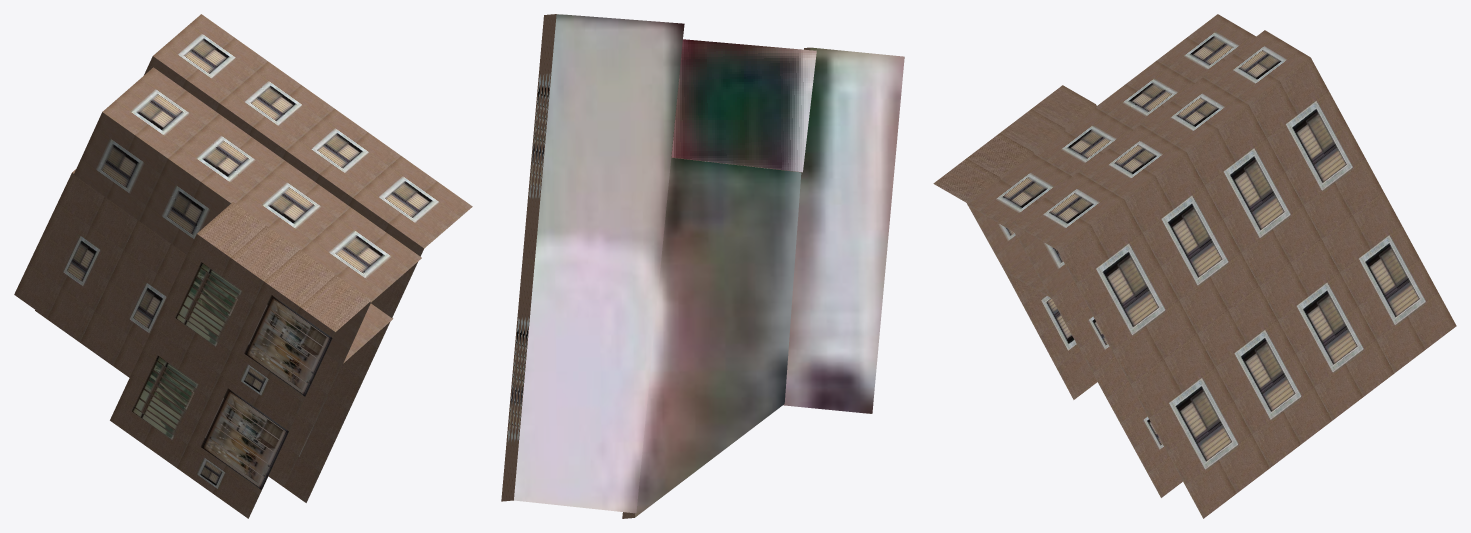
The picture shows the model from 3 angles, left to right: view 1: azimuth 30°, elevation 25°; view 2: azimuth 150°, elevation 25°; view 3: azimuth 270°, elevation 25°; orthographic projection. The views are drawn at different scales.
Size of the model in its own units: 13.58 by 17.95 by 19.92.
Materials: 10 (10 with a texture image).
